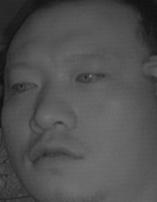eye: (72, 66, 105, 87), (10, 75, 40, 96)
mouth: (28, 137, 84, 171)
